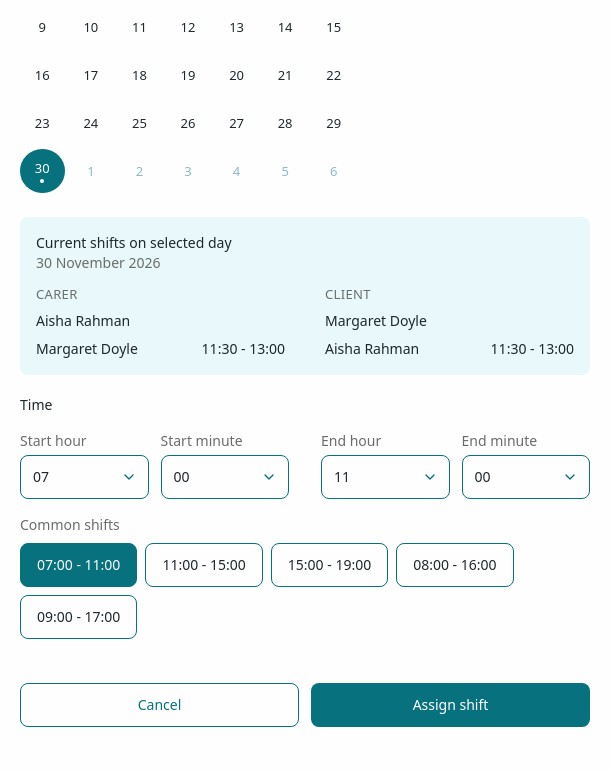
Admin Manage › [ADM-UI-02][AC-03] validates the chosen times and treats touching intervals as non-overlapping
(page scrolled)
Select "13" in the dropdown labelled "Start hour" at (84, 477), box [20, 455, 148, 499]
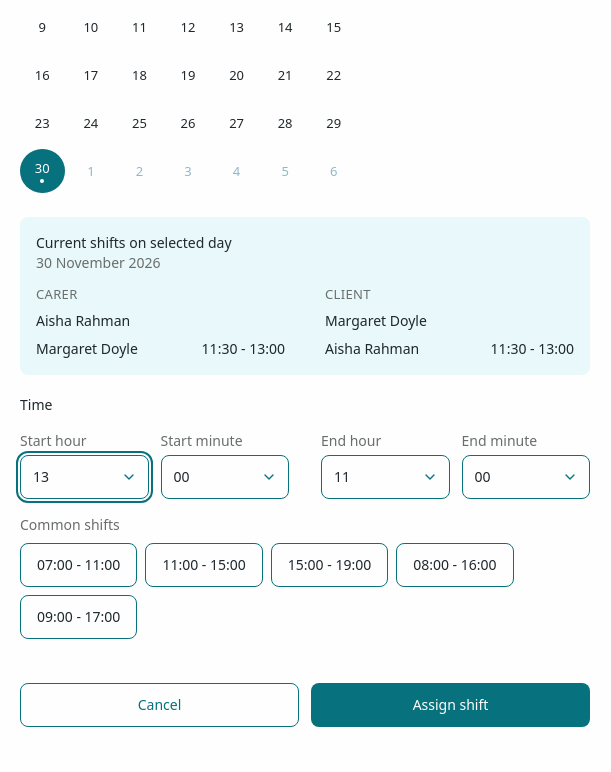
Select "00" in the dropdown labelled "Start minute" at (225, 477), box [160, 455, 289, 499]
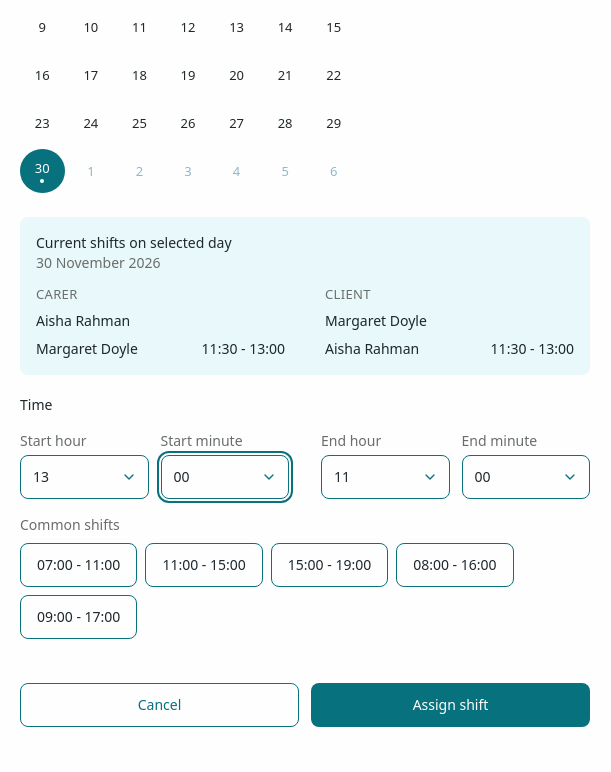
Select "11" in the dropdown labelled "End hour" at (385, 477), box [321, 455, 450, 499]
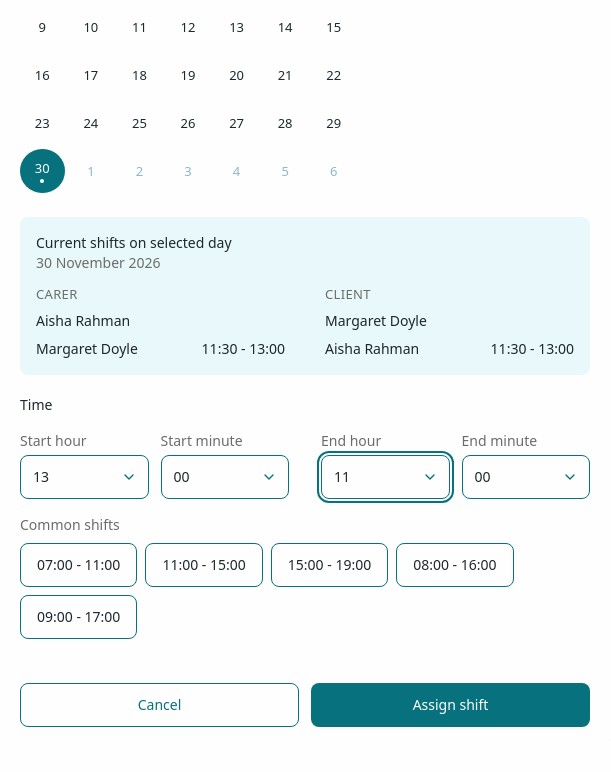
Click the button "Assign shift" at (450, 705), box [311, 683, 590, 727]
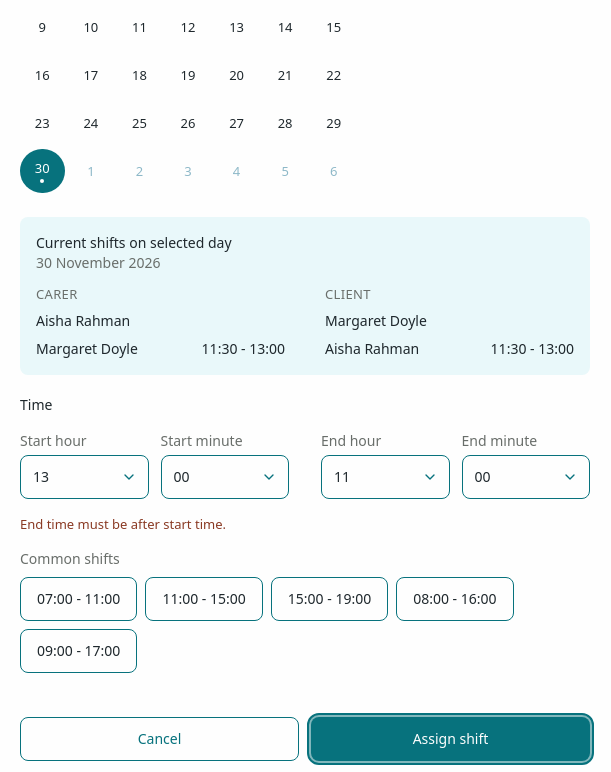
expect the text "End time must be after start time." is shown: met, box [20, 515, 226, 533]
Select "15" in the dropdown labelled "End hour" at (385, 477), box [321, 455, 450, 499]
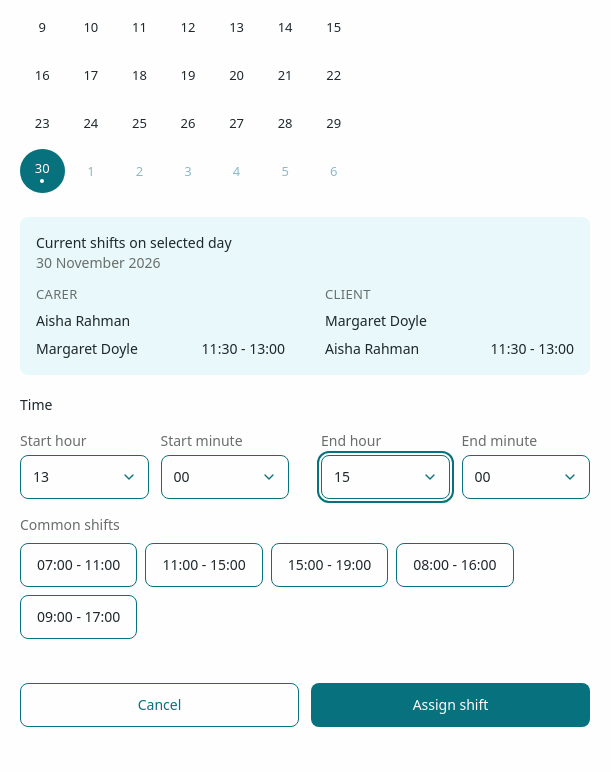
Click the button "Assign shift" at (450, 705), box [311, 683, 590, 727]
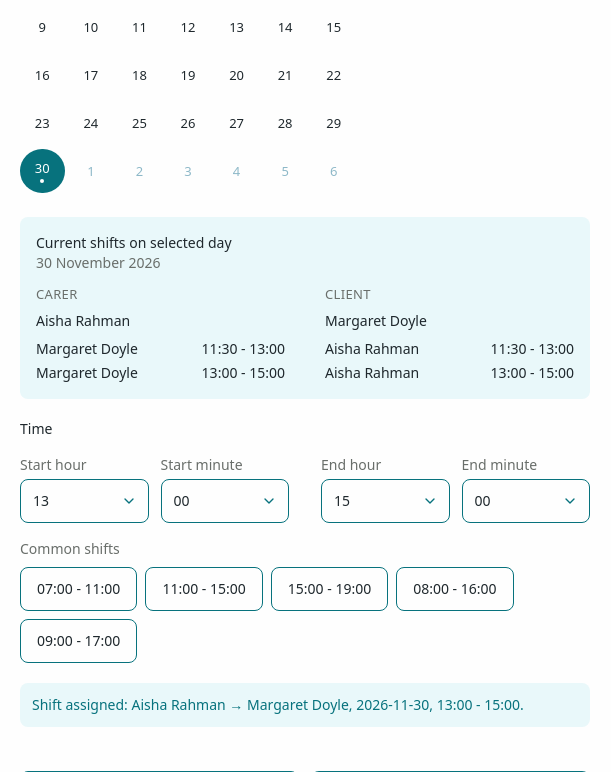
expect the message shows "Shift assigned": met, box [32, 695, 524, 714]
